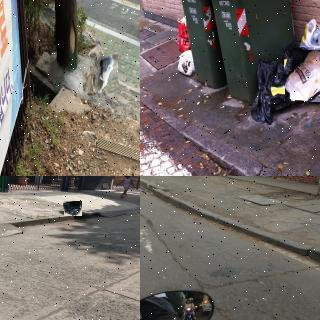Garbage: (284, 49, 320, 103), (299, 17, 320, 62), (98, 55, 119, 93), (175, 50, 196, 73), (64, 201, 82, 216)
